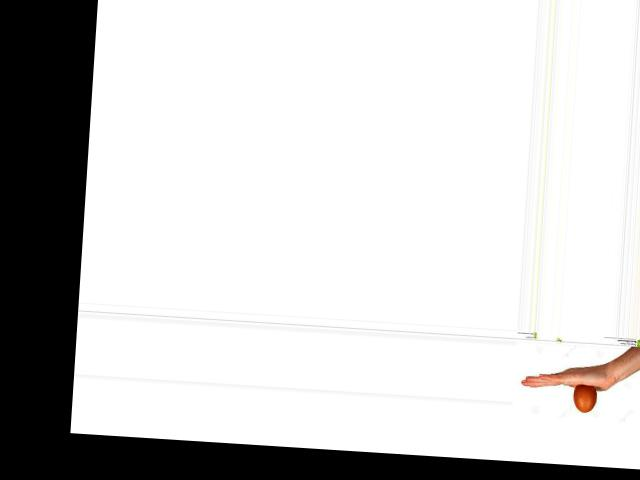egg: (572, 383, 596, 412)
